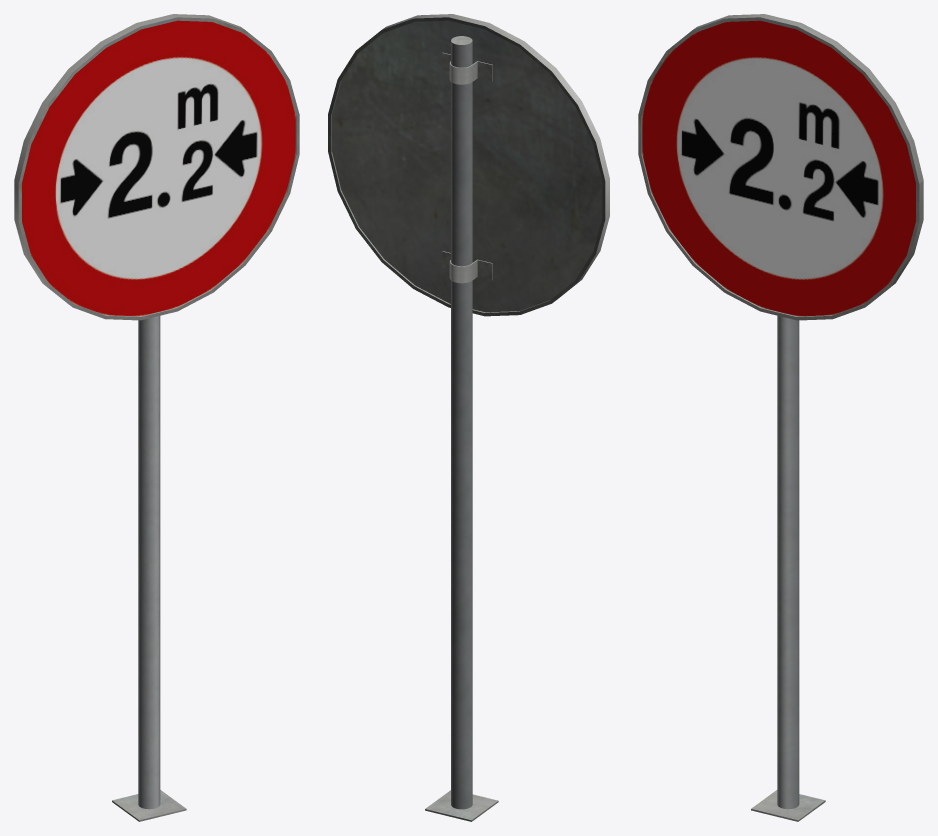
3 views of the same model, side by side, from view 1: azimuth 30°, elevation 25°; view 2: azimuth 150°, elevation 25°; view 3: azimuth 330°, elevation 25° (orthographic).
Parts seen in each view (by area): view 1: MainBuilding; view 2: MainBuilding; view 3: MainBuilding.
Boxes of the visible parts, bbox=[...] form: MainBuilding: bbox=[14, 14, 299, 821]; MainBuilding: bbox=[328, 14, 609, 821]; MainBuilding: bbox=[638, 14, 923, 821].
Size of the model in its own units: 0.8923 by 2.4 by 0.15.
Materials: 1 (1 with a texture image).
